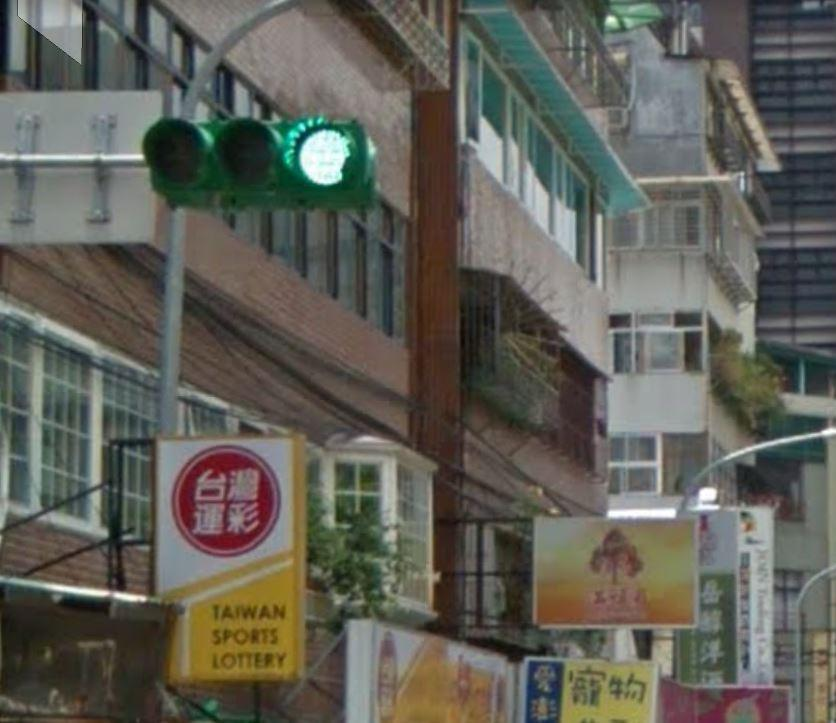green_traffic_light: (138, 106, 385, 208)
